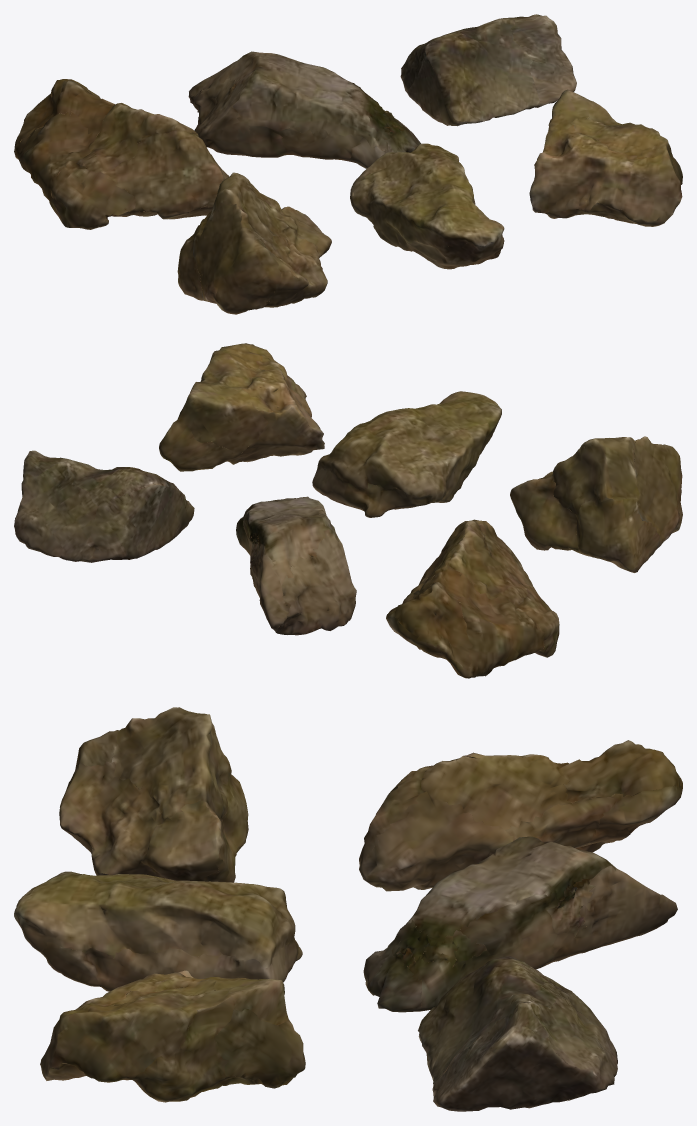
File: rock_moss_set_01.glb
The picture shows the model from 3 angles, top to bottom: view 1: azimuth 30°, elevation 25°; view 2: azimuth 150°, elevation 25°; view 3: azimuth 270°, elevation 25°; orthographic projection. The views are drawn at different scales.
Visible parts, largest first — view 1: rock_moss_set_01_rock01, rock_moss_set_01_rock02, rock_moss_set_01_rock06, rock_moss_set_01_rock04, rock_moss_set_01_rock03, rock_moss_set_01_rock05; view 2: rock_moss_set_01_rock04, rock_moss_set_01_rock01, rock_moss_set_01_rock05, rock_moss_set_01_rock03, rock_moss_set_01_rock06, rock_moss_set_01_rock02; view 3: rock_moss_set_01_rock01, rock_moss_set_01_rock02, rock_moss_set_01_rock05, rock_moss_set_01_rock06, rock_moss_set_01_rock04, rock_moss_set_01_rock03.
Boxes of the visible parts, <box> form: rock_moss_set_01_rock01: <box>14,79,229,229</box>; rock_moss_set_01_rock02: <box>188,51,420,168</box>; rock_moss_set_01_rock06: <box>529,89,682,226</box>; rock_moss_set_01_rock04: <box>177,172,331,314</box>; rock_moss_set_01_rock03: <box>400,14,576,126</box>; rock_moss_set_01_rock05: <box>350,143,504,269</box>; rock_moss_set_01_rock04: <box>510,436,682,572</box>; rock_moss_set_01_rock01: <box>386,519,559,678</box>; rock_moss_set_01_rock05: <box>312,391,501,517</box>; rock_moss_set_01_rock03: <box>14,450,194,562</box>; rock_moss_set_01_rock06: <box>159,343,324,471</box>; rock_moss_set_01_rock02: <box>236,496,356,635</box>; rock_moss_set_01_rock01: <box>359,740,682,891</box>; rock_moss_set_01_rock02: <box>363,836,677,1012</box>; rock_moss_set_01_rock05: <box>14,871,302,991</box>; rock_moss_set_01_rock06: <box>40,970,305,1102</box>; rock_moss_set_01_rock04: <box>59,707,248,882</box>; rock_moss_set_01_rock03: <box>418,956,617,1111</box>.
Bounding box in the file's own units: 8 × 1.77 × 6.95.
1 material, 1 textured.
